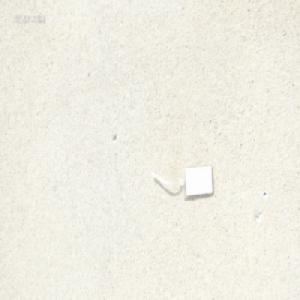LuggageTag: (149, 163, 213, 200)
